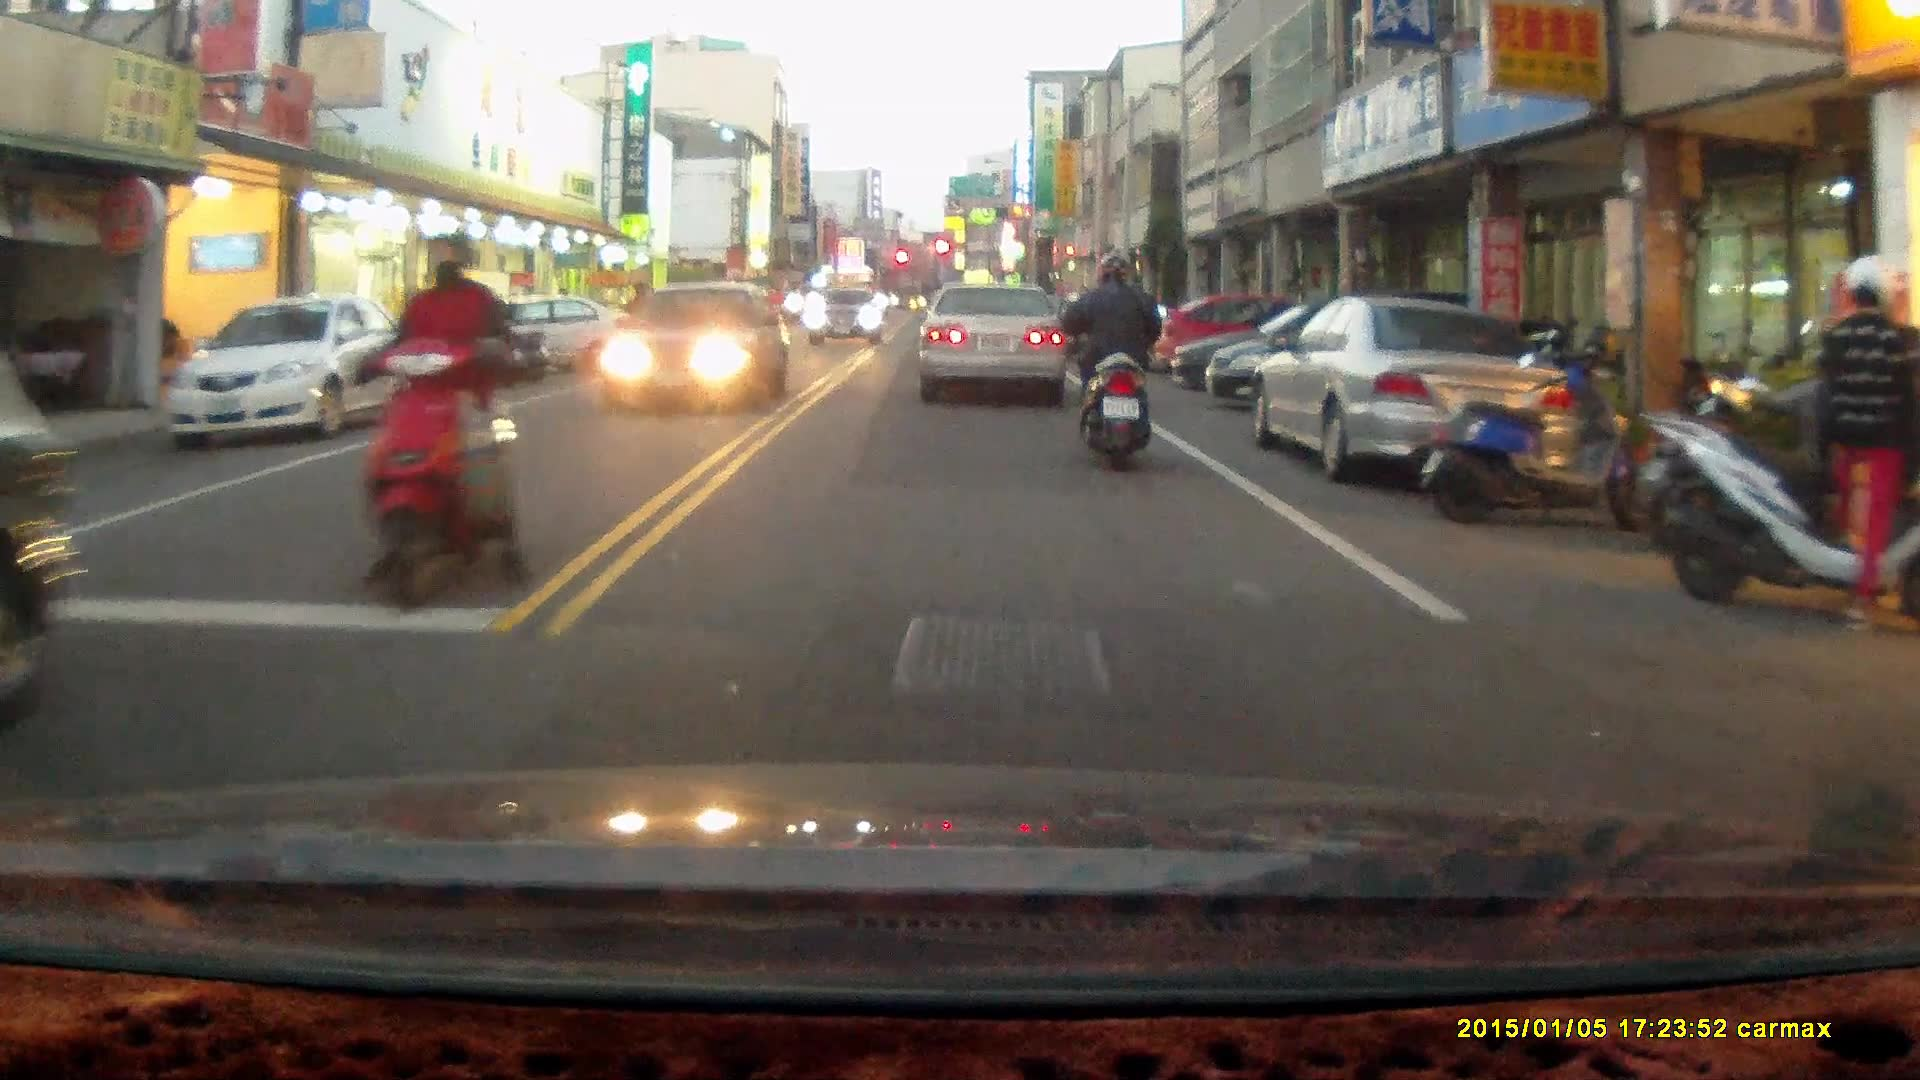pedestrian: (1818, 253, 1920, 630)
rider: (342, 224, 532, 621), (1053, 252, 1168, 474)
vehicle: (1241, 294, 1577, 484), (1219, 296, 1668, 426), (160, 288, 413, 448), (1, 352, 73, 723), (1174, 308, 1447, 401), (603, 279, 788, 412), (1151, 294, 1373, 381), (913, 284, 1069, 405), (463, 290, 612, 372), (806, 283, 885, 346)
